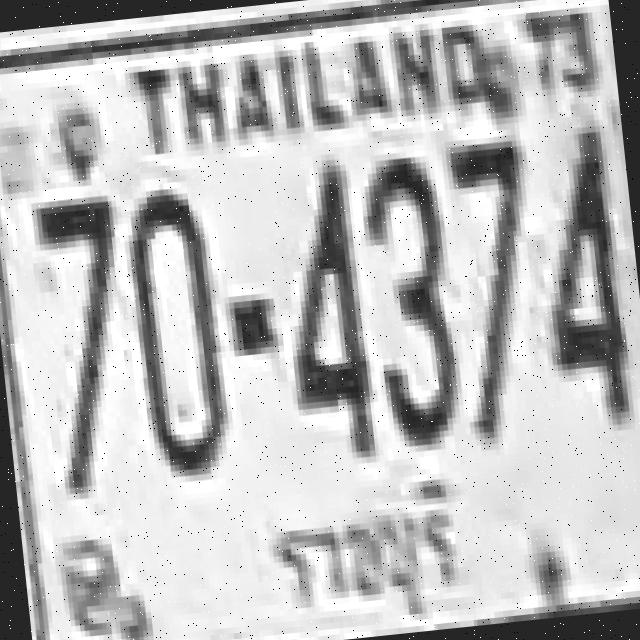0: (119, 185, 233, 479)
3: (356, 149, 462, 448)
4: (526, 122, 632, 427), (272, 158, 373, 457)
7: (440, 137, 546, 436), (33, 192, 138, 491), (444, 134, 544, 415), (444, 134, 536, 344), (444, 134, 534, 320)
Ratchaburi: (252, 467, 468, 627)
